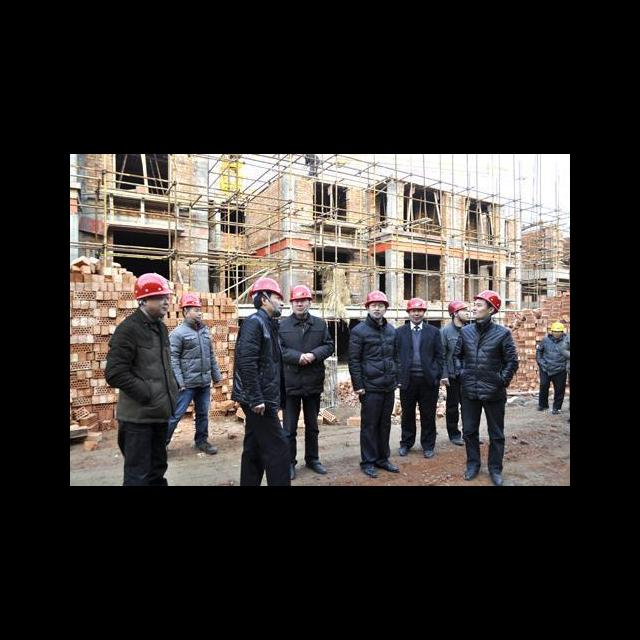Hardhat: (133, 272, 174, 300), (249, 277, 284, 300), (473, 290, 502, 313), (365, 290, 389, 310), (289, 284, 313, 303), (178, 292, 203, 308), (406, 296, 428, 312), (448, 300, 469, 316), (550, 321, 564, 332)
NO-Mask: (149, 304, 168, 318), (472, 308, 485, 319), (294, 306, 308, 315), (370, 310, 383, 318), (410, 316, 423, 323), (193, 313, 201, 321), (460, 314, 468, 321), (276, 304, 282, 313), (554, 333, 562, 338)
NO-Safety Vest: (114, 318, 175, 418), (231, 316, 280, 397), (461, 325, 507, 397), (279, 320, 325, 388), (353, 325, 396, 386), (173, 326, 212, 385), (397, 326, 438, 375), (443, 323, 462, 377), (540, 336, 565, 374), (565, 333, 570, 373), (309, 155, 318, 163)
Person: (105, 272, 178, 486), (230, 277, 293, 486), (452, 290, 519, 485), (278, 283, 335, 479), (347, 289, 399, 478), (165, 291, 221, 453), (397, 296, 444, 459), (439, 300, 483, 446), (535, 320, 566, 414), (562, 330, 570, 423), (302, 154, 319, 179)
